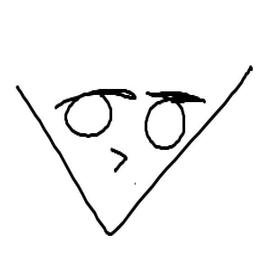empty_eye: (143, 91, 190, 157), (56, 90, 114, 140)
pointy_nose: (108, 144, 128, 174)
